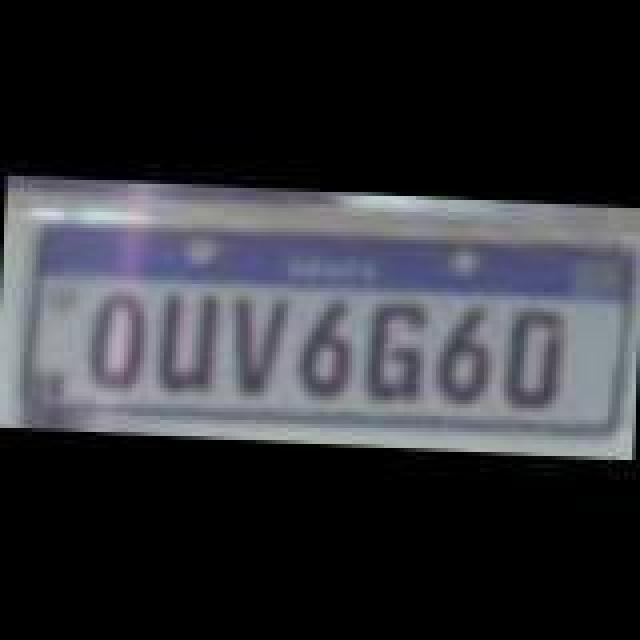6: (430, 298, 498, 406), (294, 294, 362, 402)
D: (504, 304, 568, 416)
G: (368, 294, 432, 410)
O: (88, 288, 152, 392)
U: (154, 286, 222, 394)
V: (222, 288, 290, 400)
